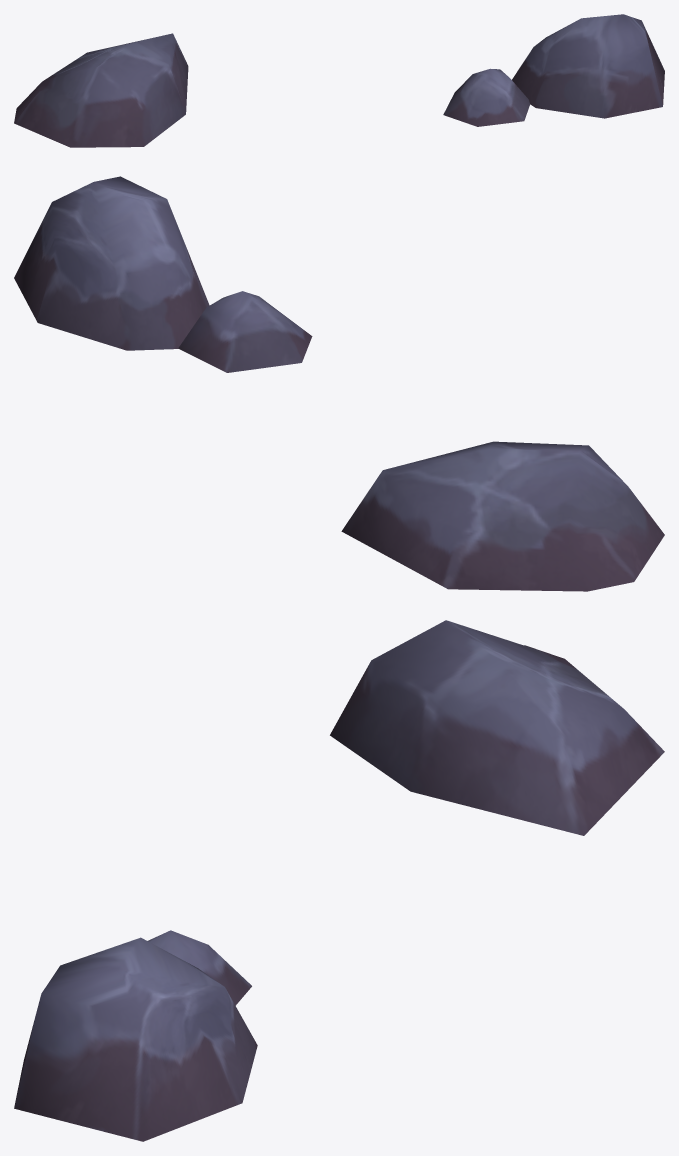
File: SleepingGarden_Pebbles_02.fbx
3 views of the same model, one above another, from view 1: azimuth 30°, elevation 25°; view 2: azimuth 150°, elevation 25°; view 3: azimuth 270°, elevation 25° (orthographic). The views are drawn at different scales.
Parts seen in each view (by area): view 1: SleepingGarden_Pebbles_02; view 2: SleepingGarden_Pebbles_02; view 3: SleepingGarden_Pebbles_02.
Part boxes in pixels (left/top/right/bottom): SleepingGarden_Pebbles_02: left=14, top=14, right=664, bottom=147; SleepingGarden_Pebbles_02: left=14, top=176, right=664, bottom=591; SleepingGarden_Pebbles_02: left=14, top=620, right=664, bottom=1141.
Size of the model in its own units: 1.43 by 0.1864 by 0.8384.
1 material, 1 textured.
